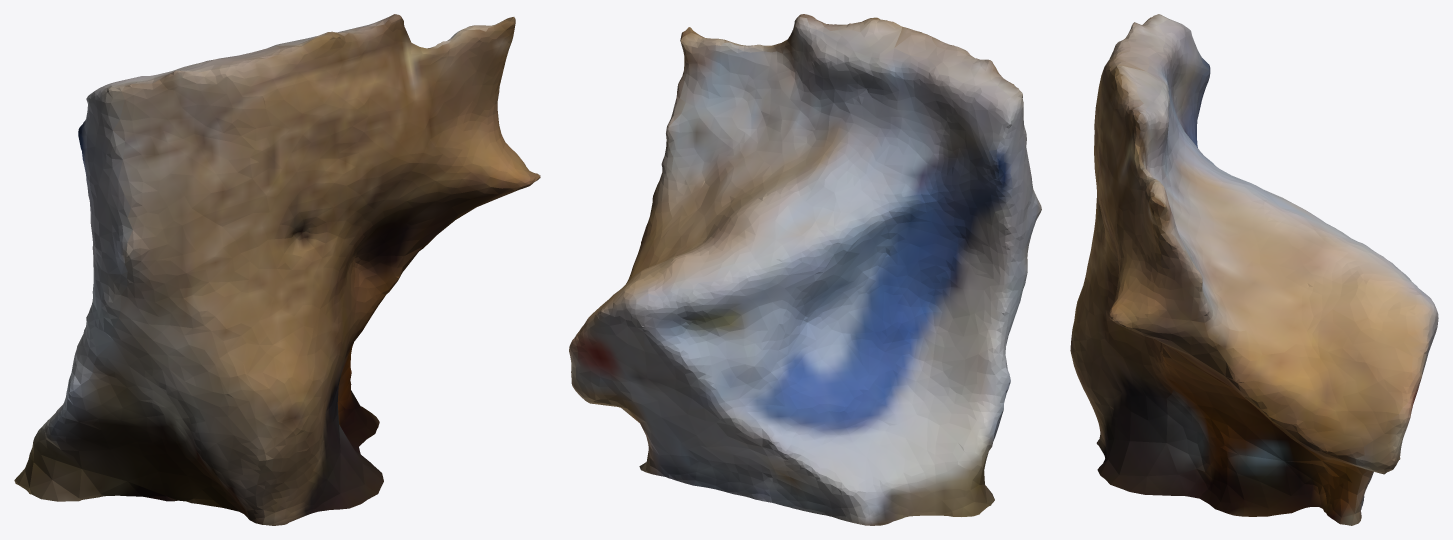
The model's file is ear-model.glb.
The picture shows the model from 3 angles, left to right: view 1: azimuth 30°, elevation 25°; view 2: azimuth 150°, elevation 25°; view 3: azimuth 270°, elevation 25°; orthographic projection. The views are drawn at different scales.
Visible parts, largest first — view 1: mesh; view 2: mesh; view 3: mesh.
Part boxes in pixels (x1,y1,x2,y2): mesh: (14,14,540,525); mesh: (569,14,1041,525); mesh: (1070,14,1438,525).
Size of the model in its own units: 0.0568 by 0.0589 by 0.0501.
Materials: 1 (1 with a texture image).
